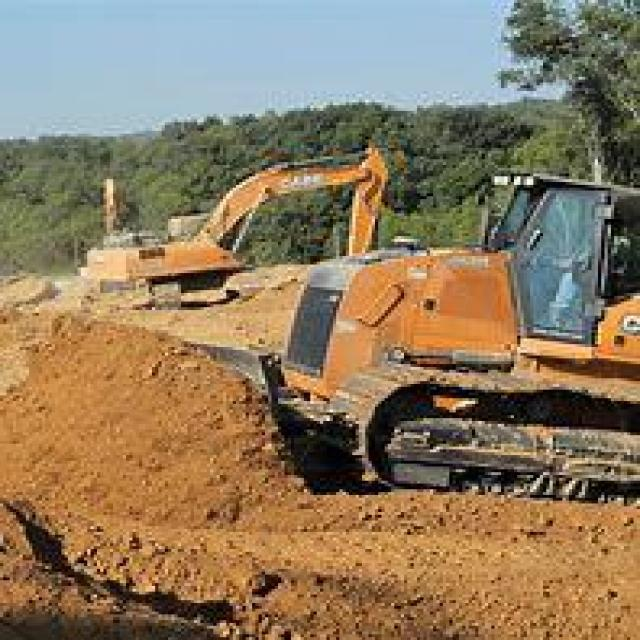Bulldozer: (110, 117, 637, 509)
